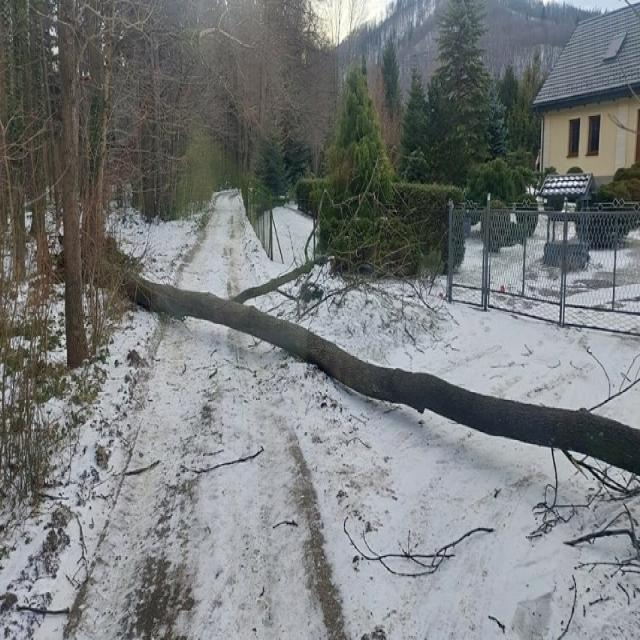fallen_tree: (128, 274, 640, 478)
